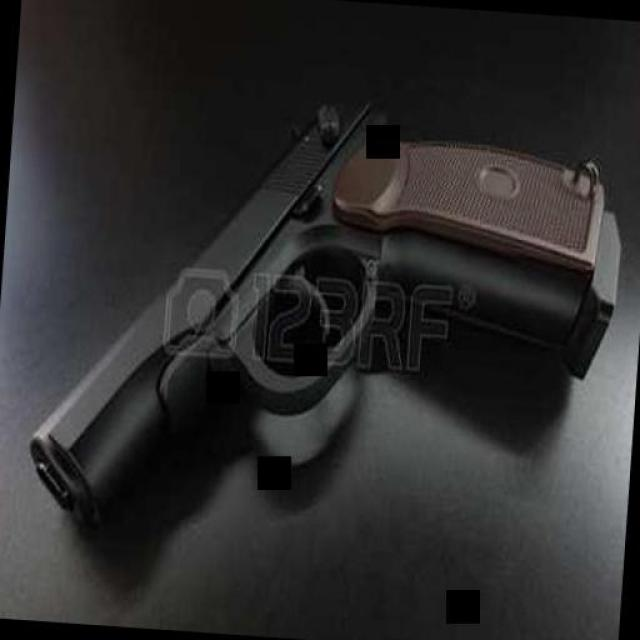gun: (22, 71, 630, 569)
